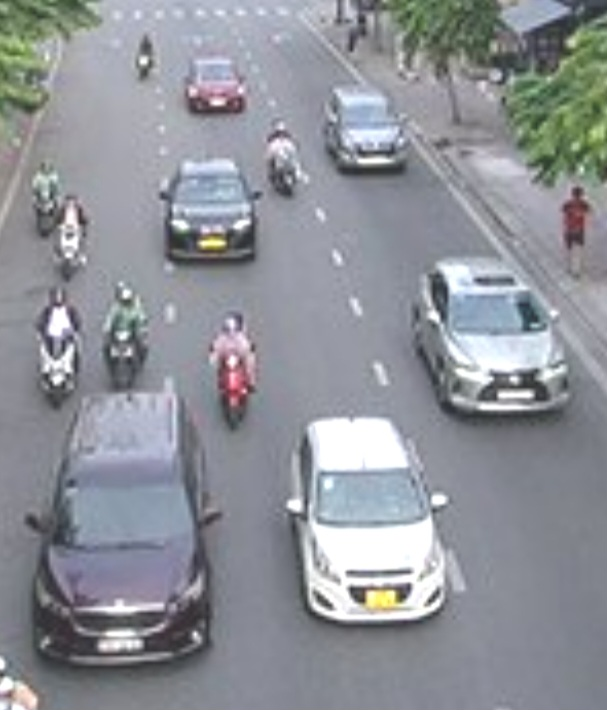car: (35, 393, 216, 663), (289, 414, 448, 623), (413, 256, 575, 416), (164, 157, 257, 263), (322, 87, 409, 175), (185, 56, 246, 113)
